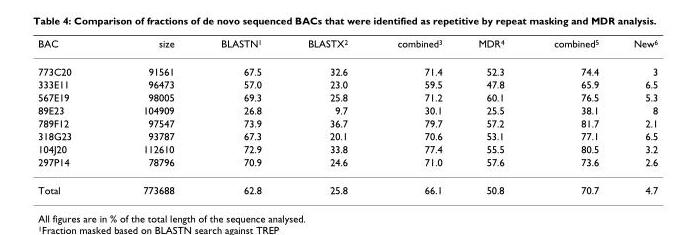table: (37, 37, 657, 195)
table column: (106, 37, 196, 195), (196, 37, 284, 195), (371, 37, 459, 195), (284, 37, 371, 195), (528, 37, 615, 195), (37, 37, 106, 195), (459, 37, 528, 195), (615, 37, 657, 195)
table column header: (37, 37, 657, 57)
table row: (37, 37, 657, 57), (37, 57, 657, 77), (37, 155, 657, 175), (37, 175, 657, 195), (37, 77, 657, 90), (37, 90, 657, 103), (37, 103, 657, 116), (37, 116, 657, 129), (37, 129, 657, 142), (37, 142, 657, 155)
